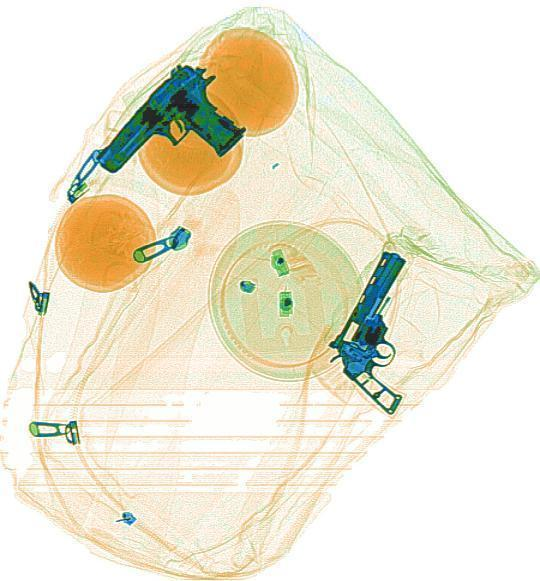Gun: (85, 49, 260, 221), (312, 243, 459, 415)
